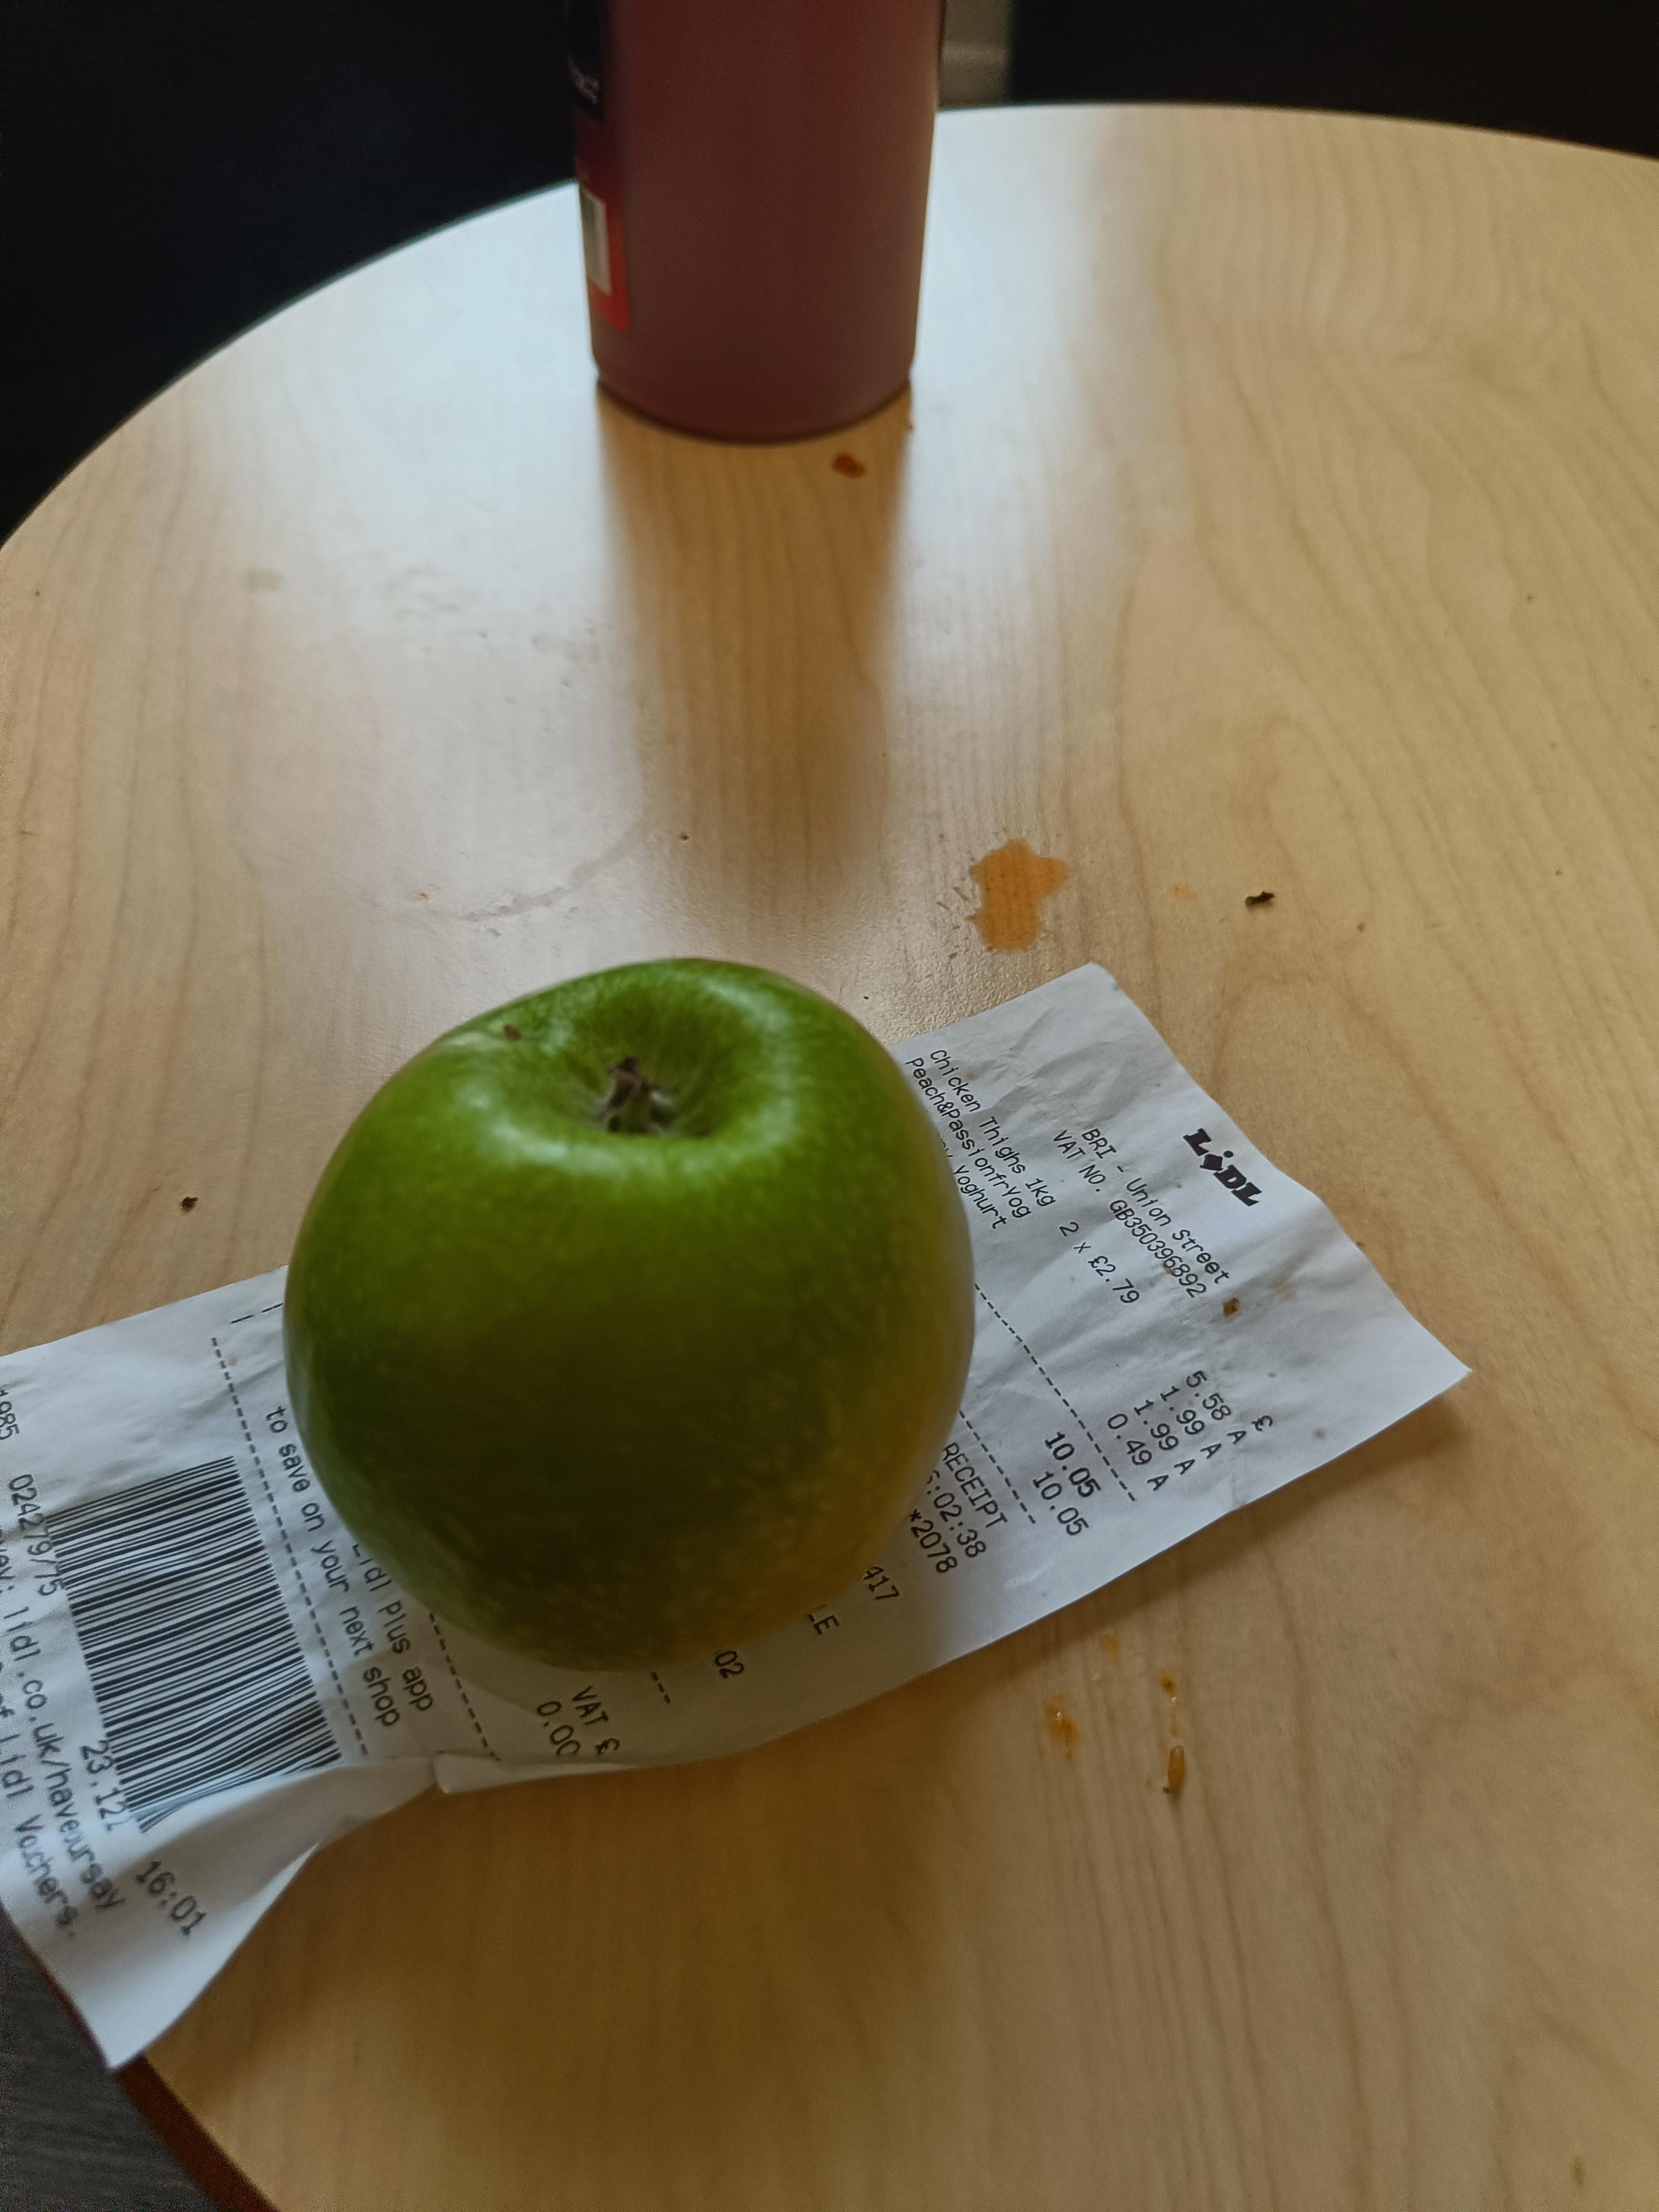Apple: (295, 928, 1011, 1667)
